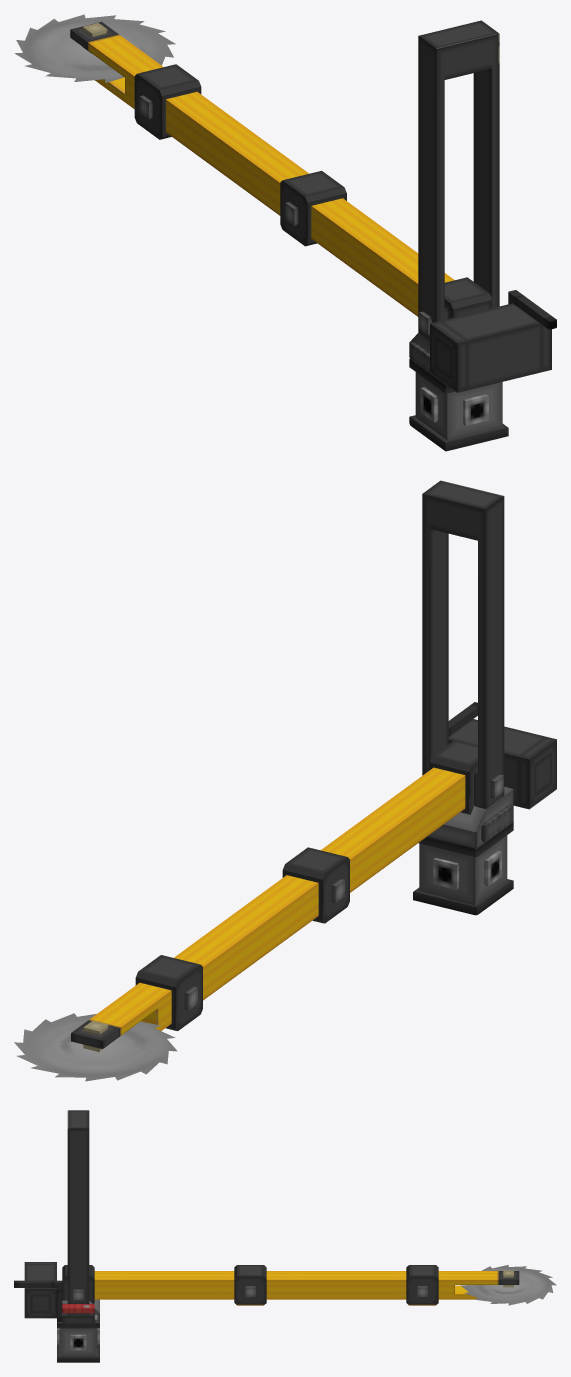
The model's file is autosaw.obj.
3 renders of one model, top to bottom at view 1: azimuth 30°, elevation 25°; view 2: azimuth 150°, elevation 25°; view 3: azimuth 270°, elevation 25°, orthographic. The views are drawn at different scales.
Visible parts, largest first — view 1: Main, ArmLower, ArmUpper, Sawblade, Base, ArmTip; view 2: Main, ArmLower, ArmUpper, Sawblade, Base, ArmTip; view 3: Main, ArmLower, ArmUpper, Sawblade, Base, ArmTip, Engine.
Boxes of the visible parts, box(x1,y1,x2,y2) form: Main: box(409, 20, 556, 392); ArmLower: box(134, 64, 308, 215); ArmUpper: box(280, 170, 454, 316); Sawblade: box(14, 14, 175, 82); Base: box(409, 359, 508, 451); ArmTip: box(70, 21, 163, 108); Main: box(422, 480, 556, 848); ArmLower: box(135, 875, 318, 1030); ArmUpper: box(282, 767, 465, 923); Sawblade: box(14, 1013, 177, 1081); Base: box(413, 822, 513, 915); ArmTip: box(71, 983, 171, 1048); Main: box(14, 1110, 99, 1323); ArmLower: box(266, 1265, 438, 1305); ArmUpper: box(94, 1265, 266, 1305); Sawblade: box(461, 1265, 556, 1305); Base: box(57, 1323, 99, 1362); ArmTip: box(438, 1271, 519, 1299); Engine: box(62, 1304, 97, 1325).
Size of the model in its own units: 2.25 by 6 by 12.62.
